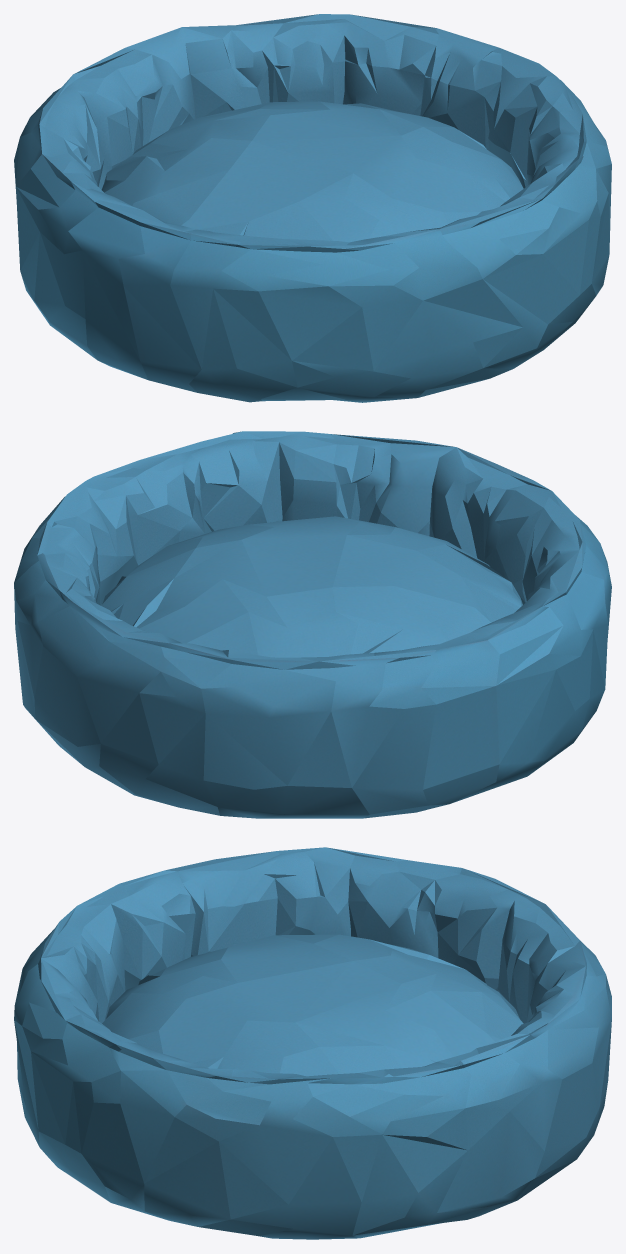
The model's file is dog_bed.glb.
3 renders of one model, top to bottom at view 1: azimuth 30°, elevation 25°; view 2: azimuth 150°, elevation 25°; view 3: azimuth 270°, elevation 25°, orthographic.
Bounding box in the file's own units: 1.9 × 0.5877 × 1.9.
1 material, 1 textured.
